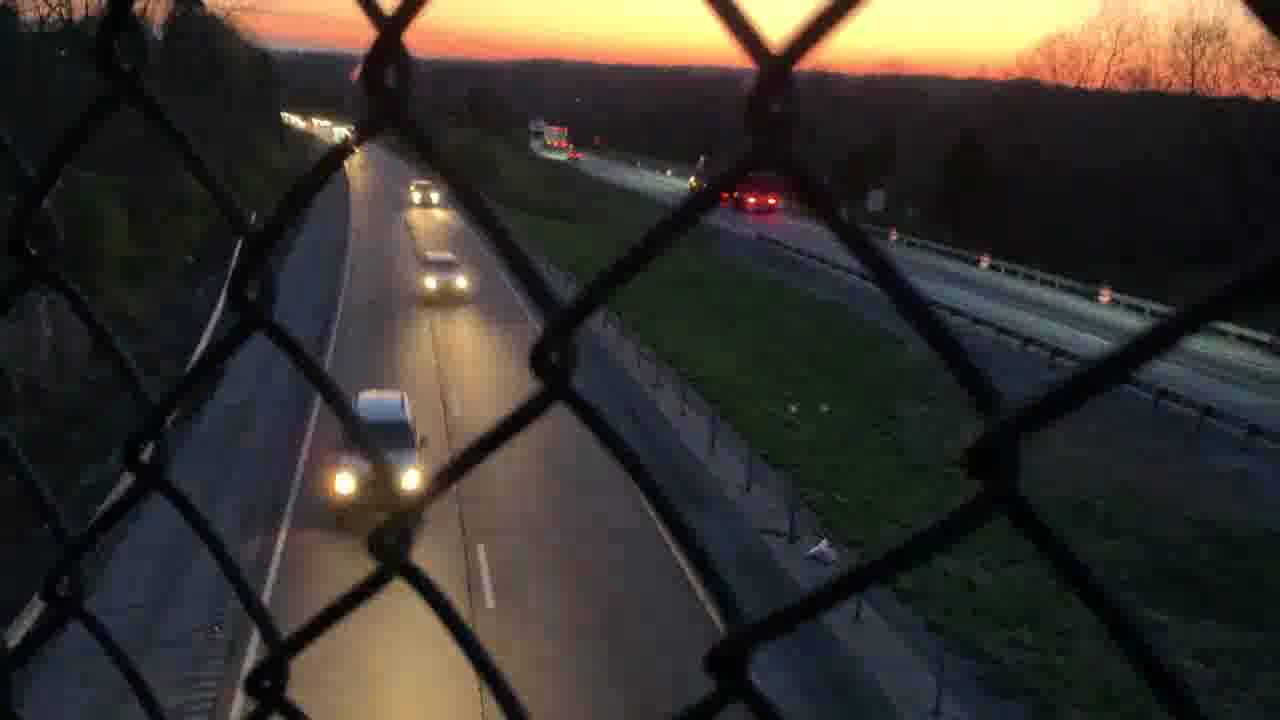heavyTruck: (687, 155, 785, 216), (544, 127, 570, 149)
largeCar: (332, 381, 424, 522), (416, 249, 472, 312), (407, 177, 444, 216)
